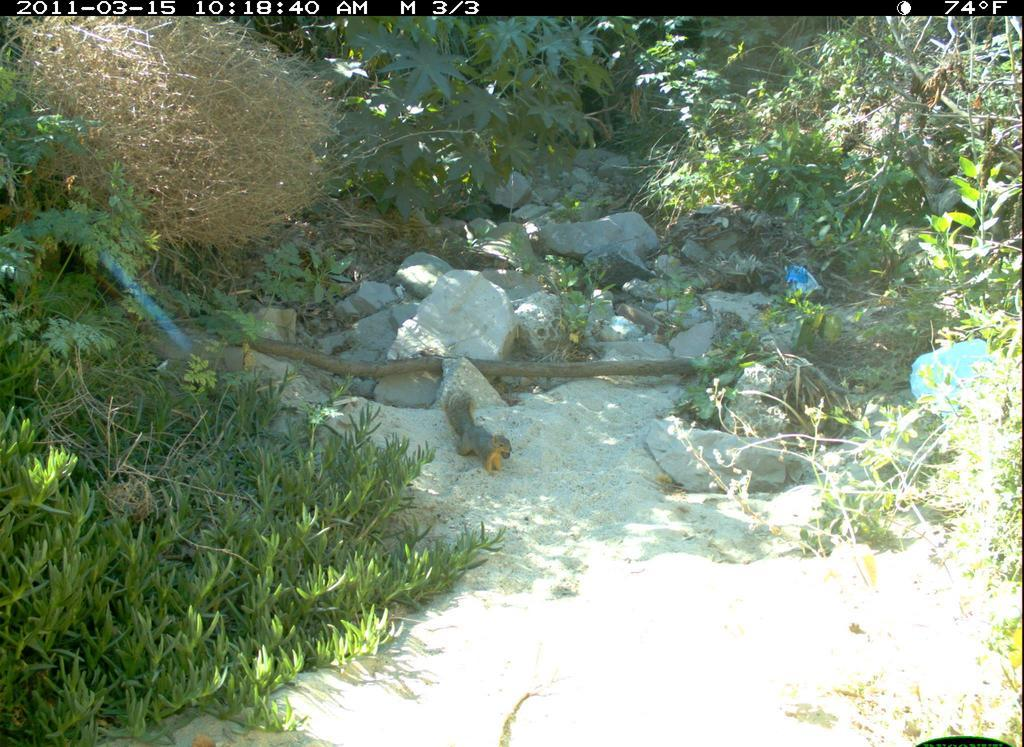squirrel: (440, 382, 525, 477)
